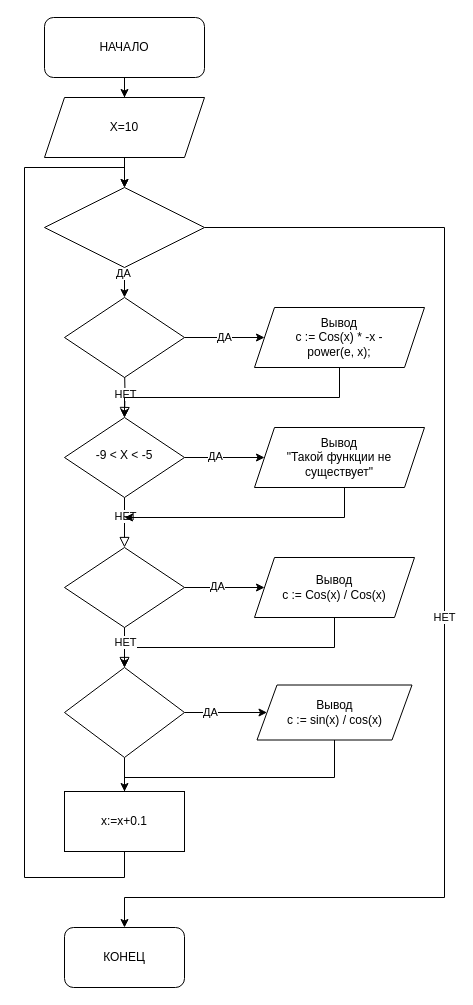
Some shapes in this 473 by 1005 pixel diagram are drawn without their labels. The box of each missing label's shape, as (x1, y1, x2, y2) in pixels:
-6 < Х < 5: (64, 546, 184, 628)
5<=x: (64, 666, 184, 758)
x<=-7: (44, 186, 204, 268)
Х < -8: (64, 296, 184, 378)
